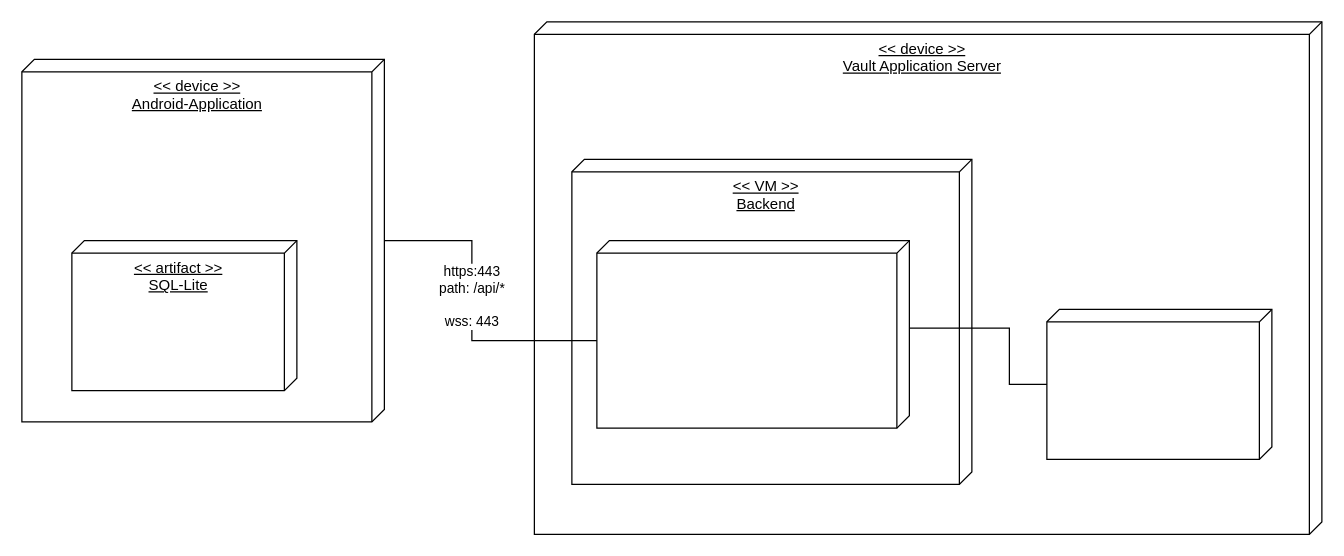
Some shapes in this 1344 by 556 pixel diagram are drawn without their labels. Here are the shapes that lost their labels. From the top down, the centre of each, then its label:
pixel 752 333: << JSP server >> Apache Tomcat Server
pixel 1159 383: << VM >> PostgreSQL
